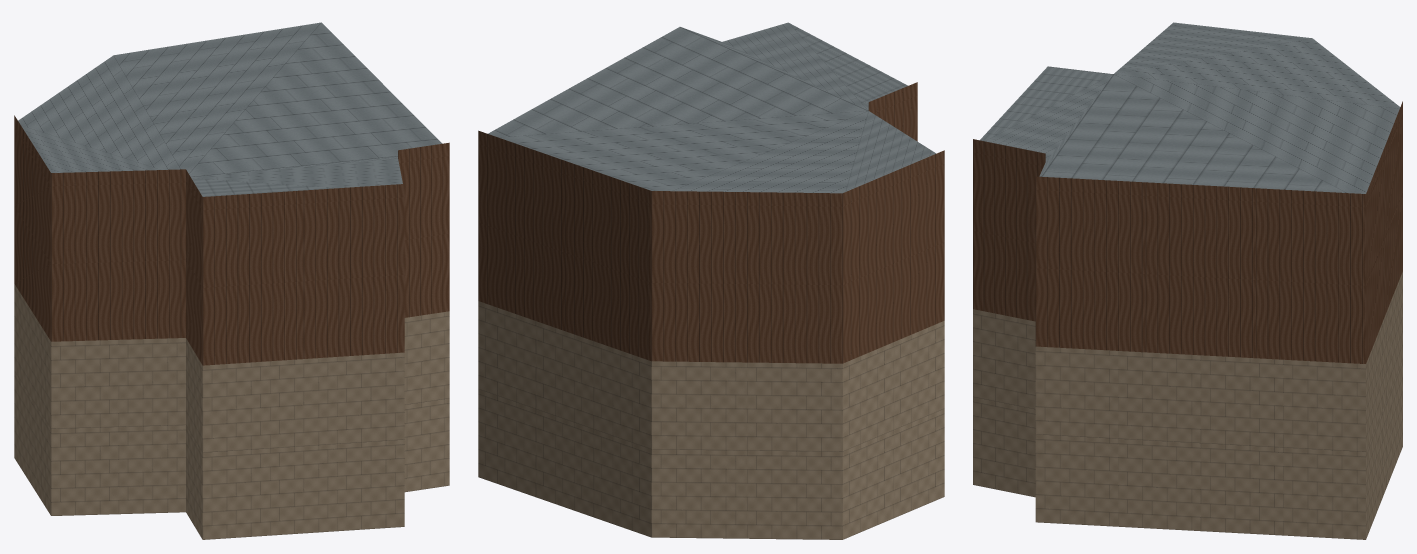
Rendered from bld_c-8_37_395.gltf.
3 renders of one model, left to right at view 1: azimuth 30°, elevation 25°; view 2: azimuth 150°, elevation 25°; view 3: azimuth 270°, elevation 25°, orthographic.
Visible parts, largest first — view 1: bld_c-8_37_395; view 2: bld_c-8_37_395; view 3: bld_c-8_37_395.
Part boxes in pixels (box(x1,y1,x2,y2)): bld_c-8_37_395: box(14, 22, 449, 539); bld_c-8_37_395: box(478, 22, 944, 539); bld_c-8_37_395: box(973, 22, 1402, 539).
Bounding box in the file's own units: 10.92 × 9.78 × 11.02.
Materials: 4 (4 with a texture image).
